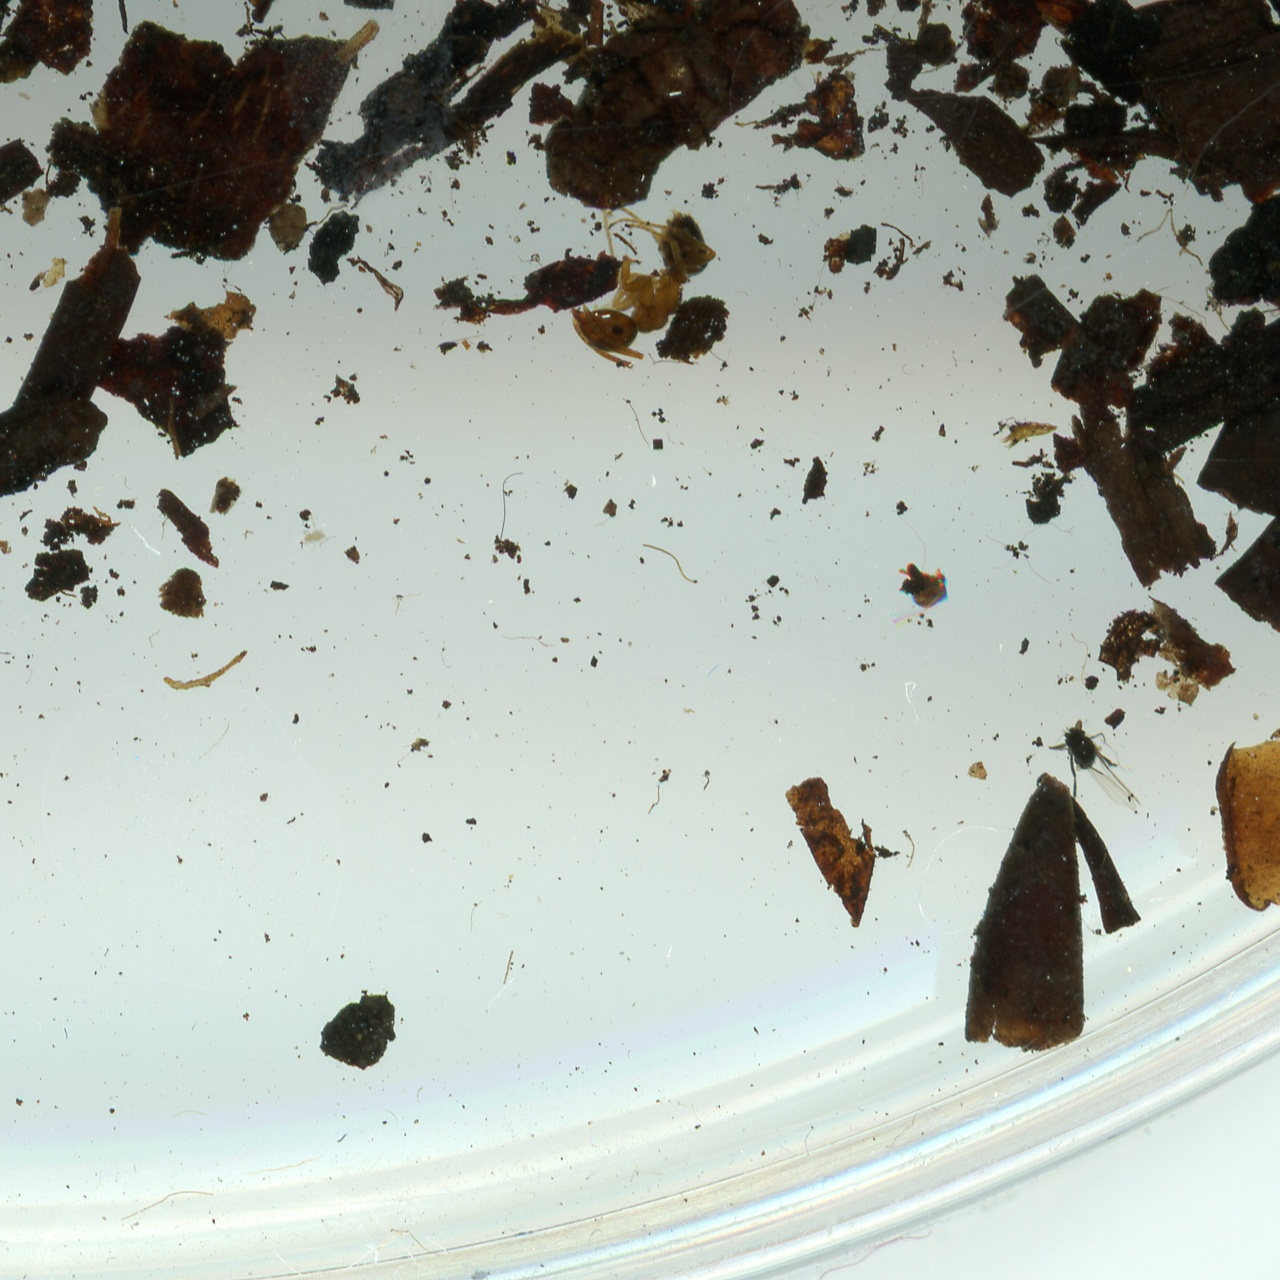arthropod: (569, 202, 719, 370), (1049, 719, 1142, 817)
